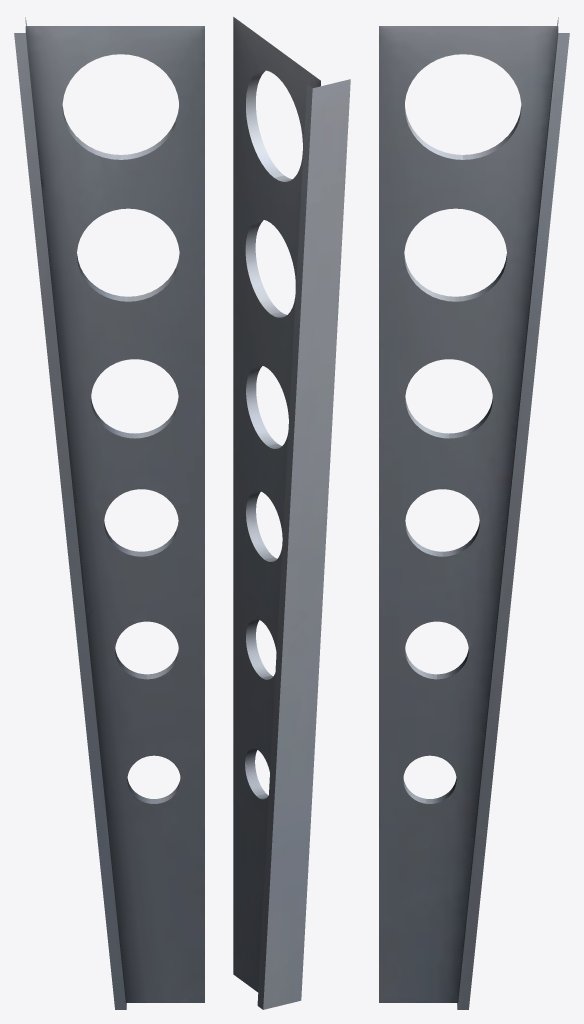
The picture shows the model from 3 angles, left to right: view 1: azimuth 90°, elevation 25°; view 2: azimuth 210°, elevation 25°; view 3: azimuth 270°, elevation 25°; orthographic projection.
Visible parts, largest first — view 1: body0_model0_lod0_mesh0; view 2: body0_model0_lod0_mesh0; view 3: body0_model0_lod0_mesh0.
Boxes of the visible parts, x1,y1,x2,y2 form: body0_model0_lod0_mesh0: (14, 17, 204, 1009); body0_model0_lod0_mesh0: (233, 17, 350, 1009); body0_model0_lod0_mesh0: (379, 17, 569, 1009).
Size of the model in its own units: 7.99 by 192 by 33.99.
Materials: 1 (1 with a texture image).
